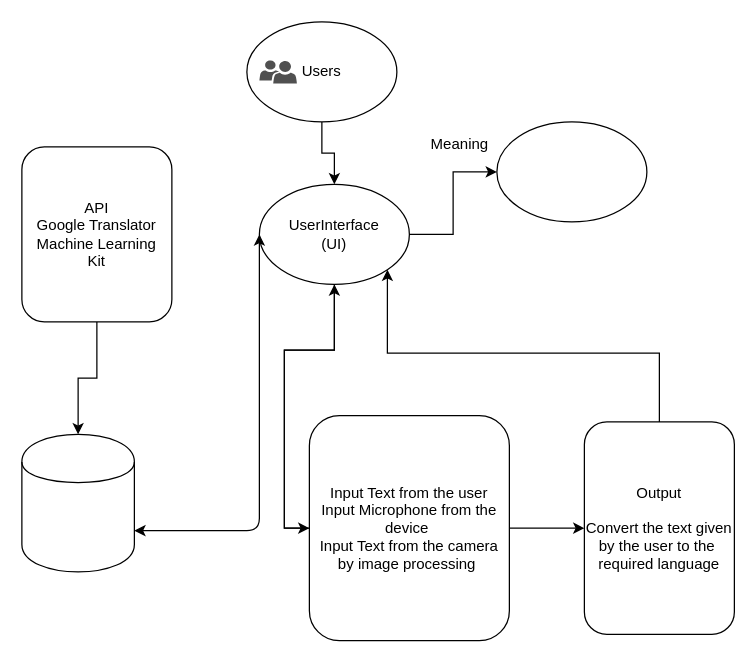
This 756x663 diagram has some shape labels left out. The box of each missing label's shape, as (x1, y1, x2, y2) in pixels:
Cloud Storage (Firebase): (21, 433, 134, 572)
Http Request to Cambridge Dictionary: (496, 121, 647, 222)
